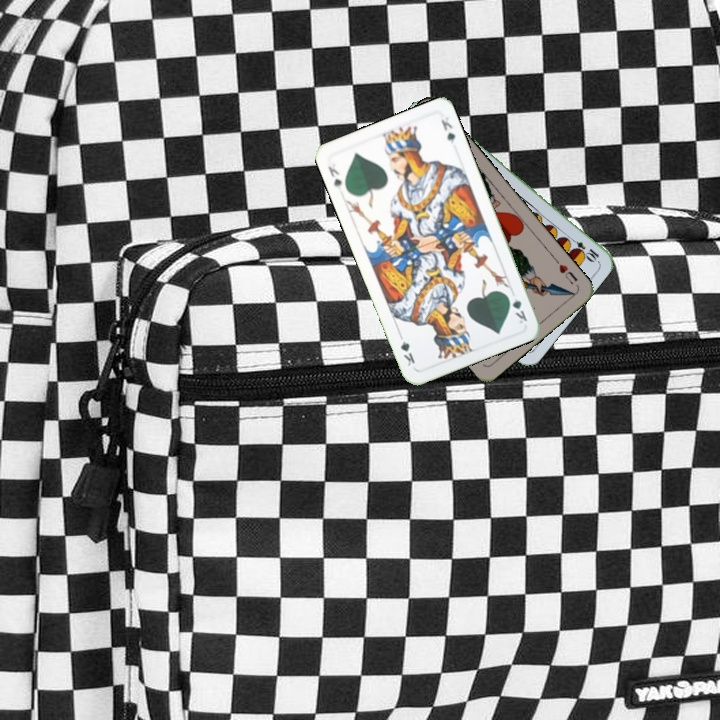E10: (565, 233, 601, 264)
GK: (503, 290, 530, 326), (324, 162, 344, 192)
HU: (550, 254, 580, 287)
